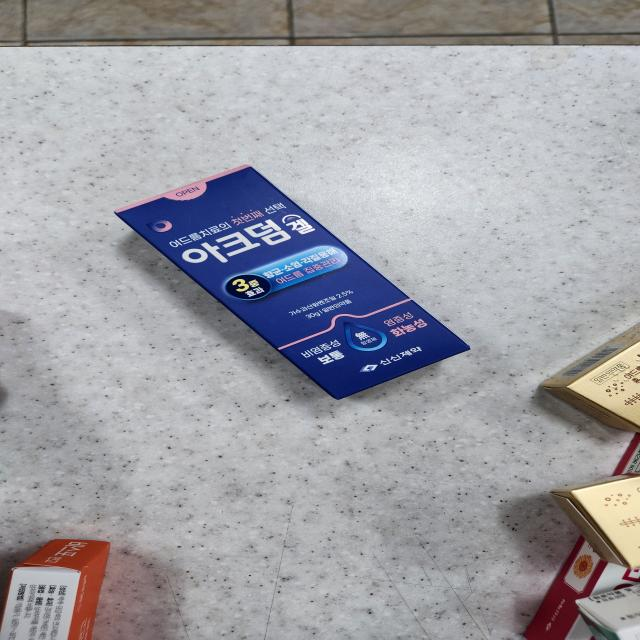box: (116, 167, 470, 399), (554, 476, 639, 568)
